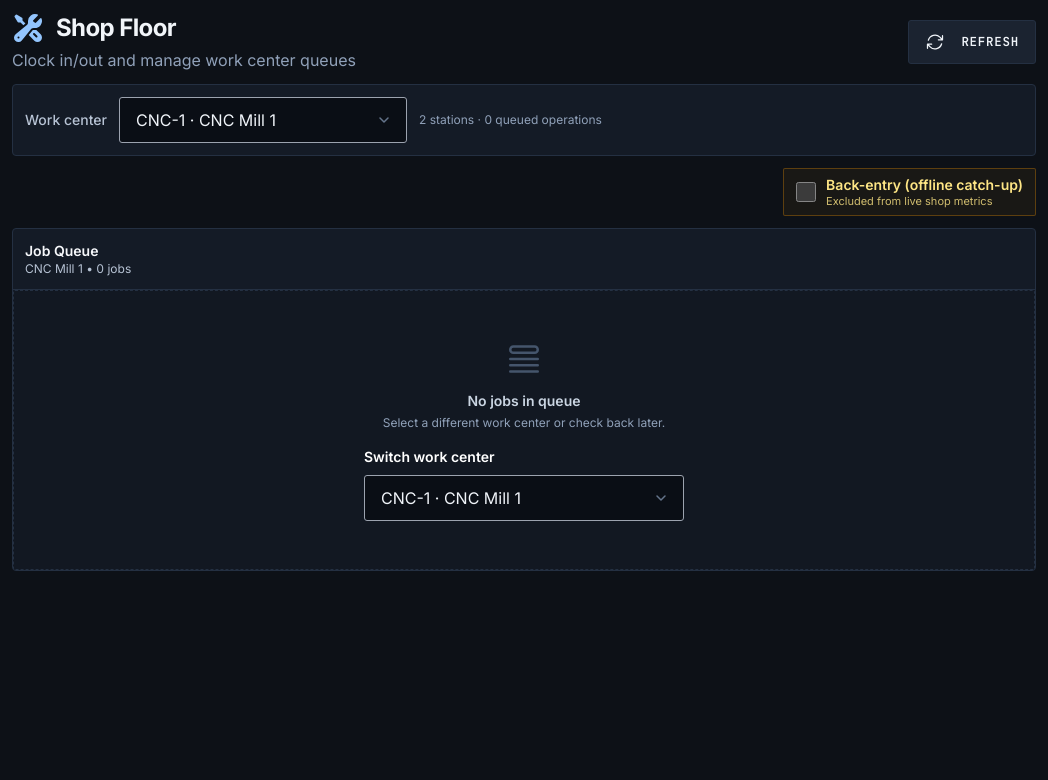
Scenario: switches directly from an empty queue to another station
Expected: the field labelled "Optional Priority Reason" is not shown
Step 1. Select "LAS-01 · Laser" in the dropdown labelled "Switch work center" → (524, 498), box 364,475 -> 684,521
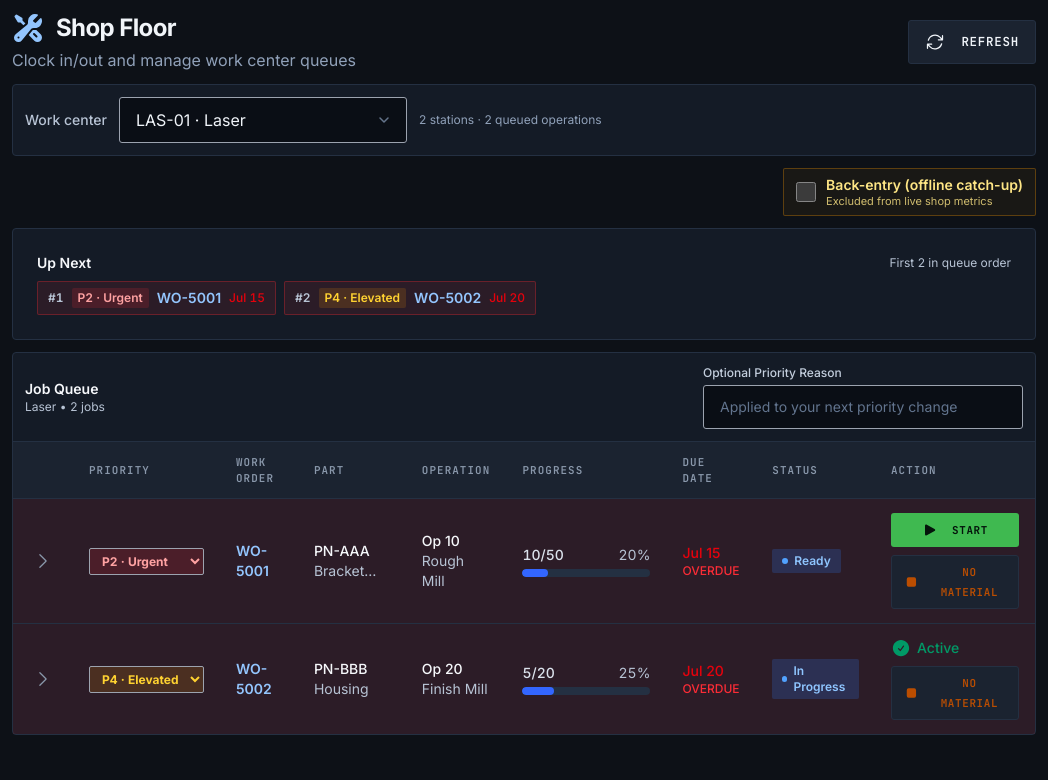
Result: the text "WO-5001" is shown at 236,542 -> 269,579
Result: the field labelled "Optional Priority Reason" is shown at 703,385 -> 1023,429
